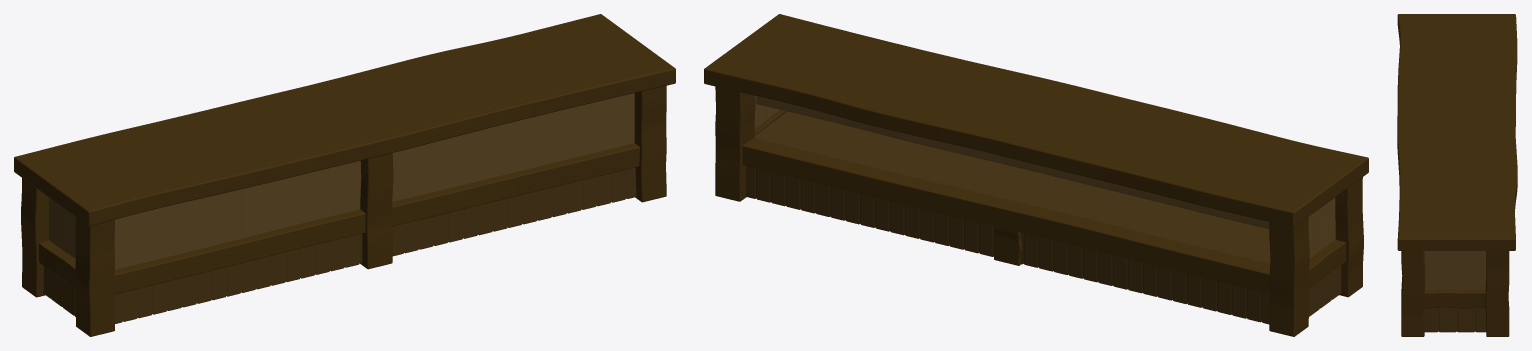
Rendered from TI_Bar.obj.
The picture shows the model from 3 angles, left to right: view 1: azimuth 30°, elevation 25°; view 2: azimuth 150°, elevation 25°; view 3: azimuth 270°, elevation 25°; orthographic projection. The views are drawn at different scales.
Visible parts, largest first — view 1: Куб.026; view 2: Куб.026; view 3: Куб.026.
Boxes of the visible parts, <box> form: Куб.026: <box>14,14,675,336</box>; Куб.026: <box>704,14,1368,336</box>; Куб.026: <box>1397,14,1517,336</box>.
Size of the model in its own units: 17.83 by 3.72 by 4.03.
1 material, 1 textured.
